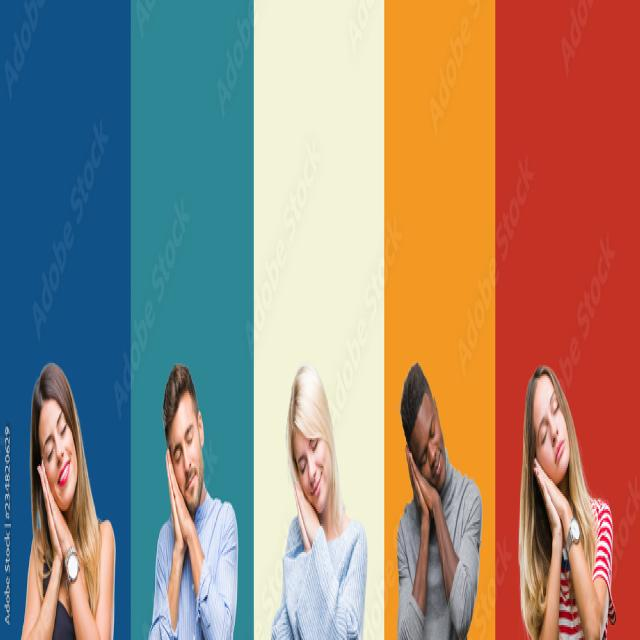Sleepy: (39, 400, 77, 510), (169, 391, 203, 511), (532, 377, 570, 483), (408, 394, 447, 492), (292, 426, 330, 514)
